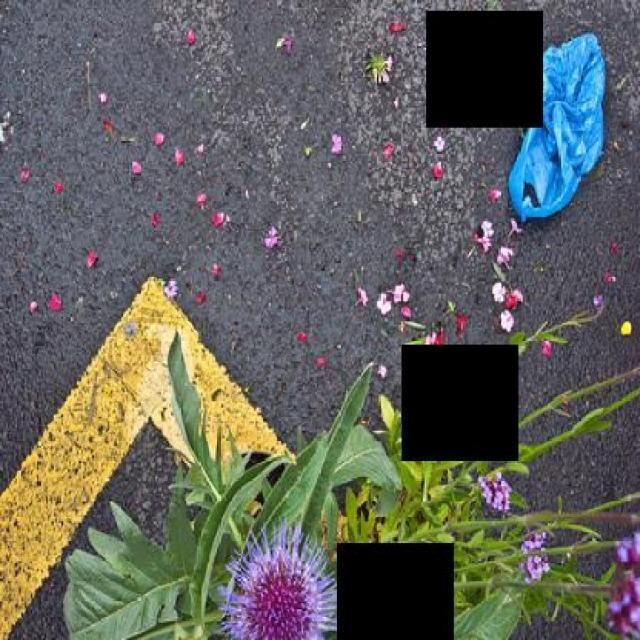plastic bag: (507, 28, 605, 217)
